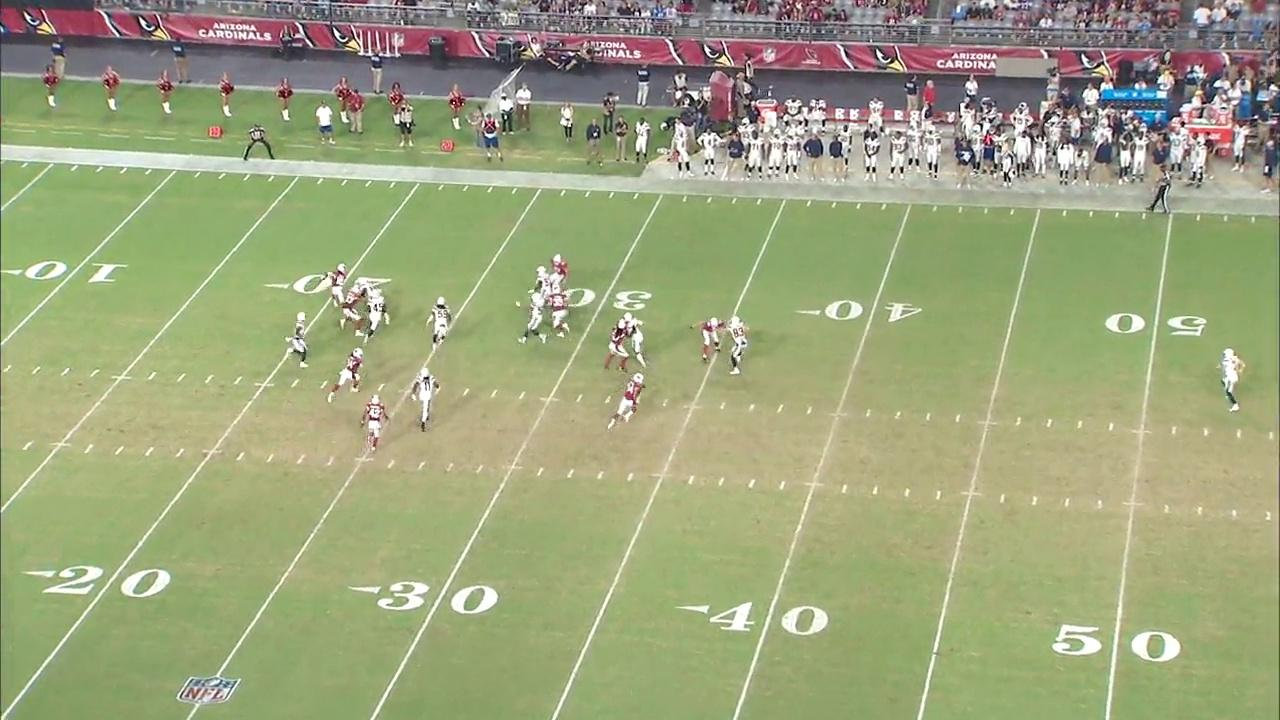five_hash: (648, 471, 675, 479), (47, 441, 73, 449), (500, 464, 526, 472), (802, 480, 826, 488), (351, 456, 377, 463), (959, 491, 984, 498), (109, 374, 133, 381), (1121, 501, 1145, 508), (253, 382, 276, 389), (199, 449, 224, 455), (538, 397, 561, 403), (1131, 429, 1153, 435), (976, 420, 998, 426), (826, 412, 848, 418), (682, 404, 703, 410)
hash: (20, 439, 36, 451), (174, 372, 187, 384), (203, 372, 215, 385), (81, 444, 95, 455), (232, 374, 244, 386), (173, 447, 185, 459), (444, 461, 456, 473), (113, 445, 126, 456), (59, 366, 71, 377), (264, 453, 276, 464), (294, 454, 306, 465), (233, 451, 246, 461), (1229, 508, 1239, 521), (934, 488, 943, 502), (1264, 509, 1273, 523), (289, 378, 300, 389), (144, 446, 155, 457), (416, 461, 427, 472), (746, 477, 757, 488), (89, 368, 101, 378), (146, 371, 158, 381), (870, 484, 880, 496), (997, 493, 1007, 505), (566, 467, 575, 480), (2, 364, 13, 374), (319, 379, 329, 390), (376, 382, 387, 392), (326, 456, 336, 467), (384, 459, 394, 470), (474, 463, 484, 474), (534, 467, 545, 477), (716, 476, 726, 487), (777, 480, 787, 491), (1062, 497, 1072, 508), (596, 469, 605, 481), (461, 387, 471, 397), (574, 393, 584, 403), (660, 398, 670, 408), (747, 402, 757, 412), (625, 472, 635, 482), (902, 487, 911, 498), (1095, 499, 1104, 510), (1195, 505, 1204, 516), (1030, 495, 1038, 507), (32, 366, 42, 375), (489, 389, 499, 398), (517, 391, 527, 400), (603, 395, 613, 404), (718, 401, 728, 410), (775, 404, 784, 414), (924, 412, 933, 422), (1044, 419, 1054, 428), (686, 475, 695, 485), (840, 484, 849, 494), (1162, 504, 1171, 514), (1076, 419, 1084, 430), (1235, 429, 1243, 440), (864, 408, 873, 417), (1014, 416, 1022, 426), (1202, 427, 1210, 437), (894, 410, 902, 419), (1170, 426, 1178, 435), (954, 413, 961, 423), (806, 405, 813, 414), (1108, 422, 1115, 431), (1268, 430, 1274, 440)
number: (1052, 621, 1182, 664), (348, 579, 500, 615), (675, 600, 830, 635), (22, 563, 172, 598), (0, 259, 128, 286), (1103, 310, 1207, 341), (796, 300, 922, 324), (564, 285, 652, 314)
